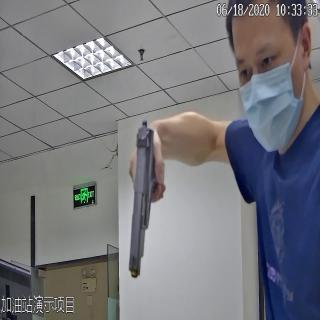gun: (126, 119, 167, 275)
